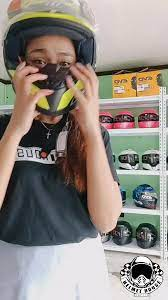helmets: (2, 0, 107, 124)
